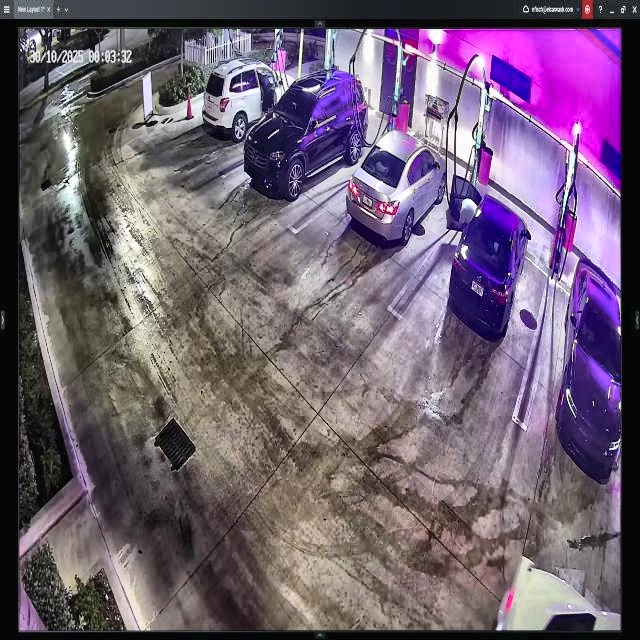Car: (245, 72, 366, 198), (447, 174, 531, 334), (347, 128, 446, 244)
